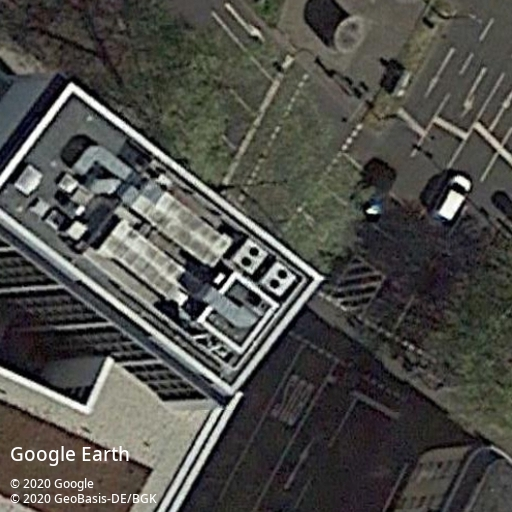Chiller: (232, 238, 269, 276), (259, 258, 296, 296)
